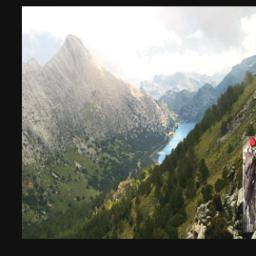Woodpecker: (243, 136, 256, 232)
